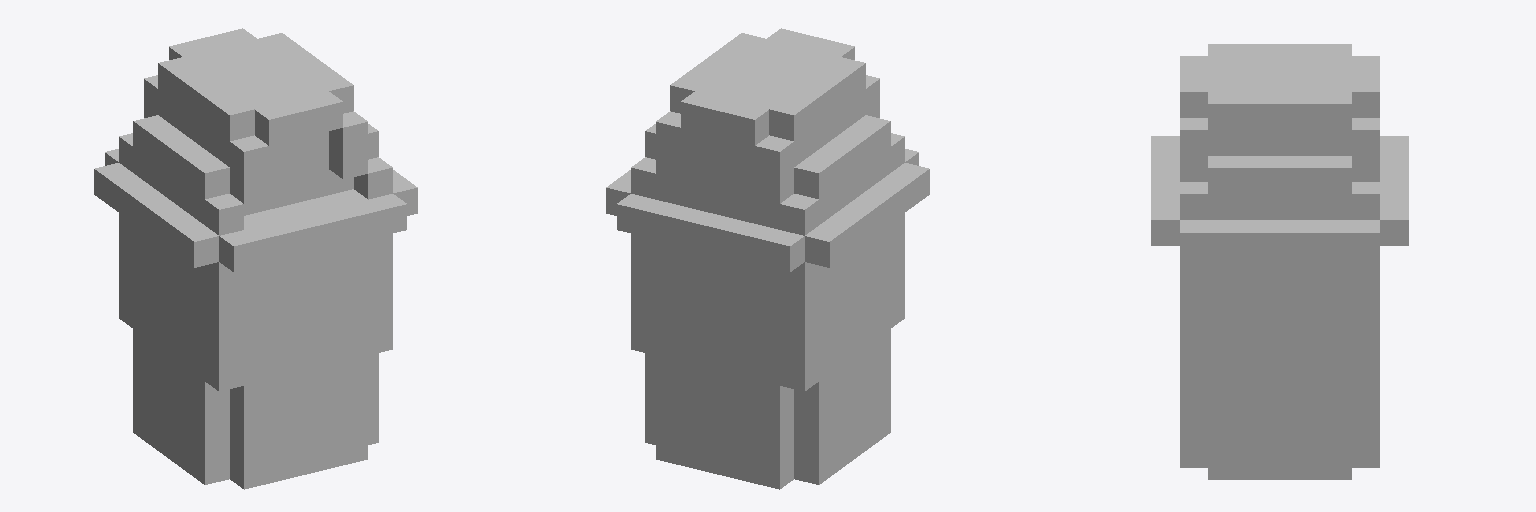
File: 3D Voxel Office Pack-5.obj
3 views of the same model, side by side, from view 1: azimuth 30°, elevation 25°; view 2: azimuth 150°, elevation 25°; view 3: azimuth 270°, elevation 25° (orthographic).
Visible parts, largest first — view 1: object 1; view 2: object 1; view 3: object 1.
Part boxes in pixels (x1,y1,x2,y2): object 1: (94,28,417,489); object 1: (606,28,929,489); object 1: (1151,44,1408,479).
Size of the model in its own units: 0.9 by 1.4 by 0.9.